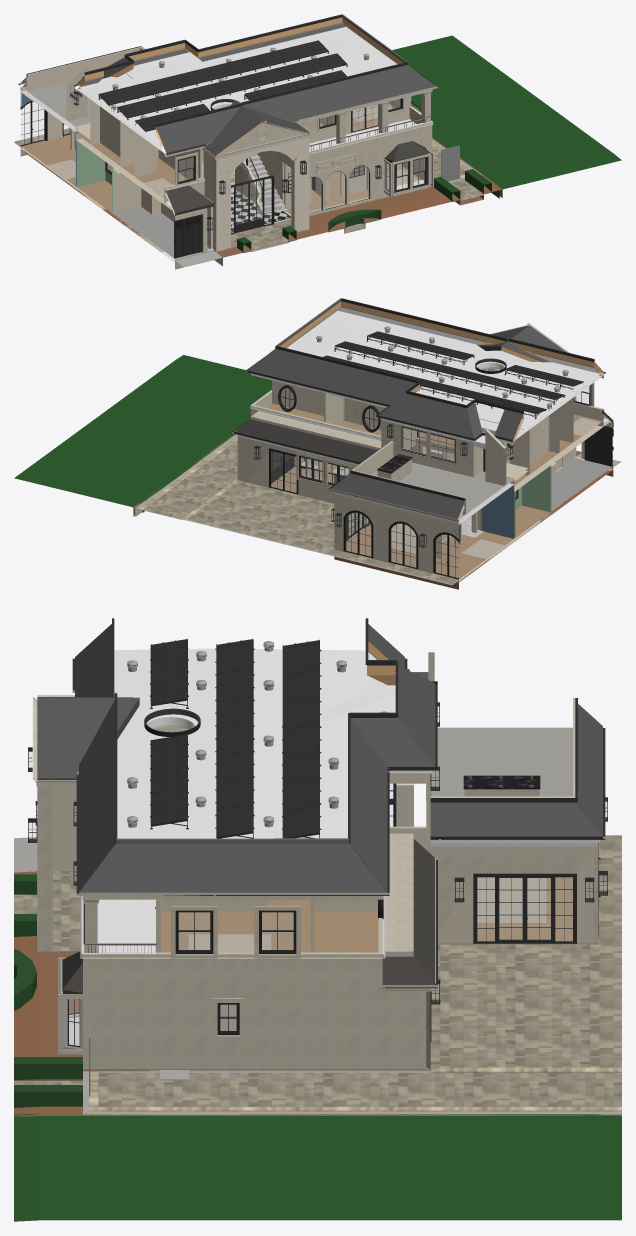
Rendered from elevation-east-7f1713720036.glb.
The picture shows the model from 3 angles, top to bottom: view 1: azimuth 30°, elevation 25°; view 2: azimuth 150°, elevation 25°; view 3: azimuth 270°, elevation 25°; orthographic projection. The views are drawn at different scales.
Visible parts, largest first — view 1: elevation-east-aee2d046b0172b1e, elevation-east-d56ee2a9d54b1fc2, elevation-east-e33d7b378dc851e2, elevation-east-0b9d5d1cd0b2c60f, elevation-east-7cf8e5cfa8b264af, elevation-east-f9d31319fa3bf46f, elevation-east-698abdfdc6fb970d, elevation-east-3b0077416469e01b, elevation-east-2575515a05775d9e, elevation-east-25c3ff3929e46046, elevation-east-b39baa29700ae605, elevation-east-e566fc302b71b574 (+55 smaller); view 2: elevation-east-aee2d046b0172b1e, elevation-east-d56ee2a9d54b1fc2, elevation-east-9a168d6ce9d31ade, elevation-east-c91f911e25c8cae7, elevation-east-3b0077416469e01b, elevation-east-969b861f9850351e, elevation-east-2c1fd33d433632d0, elevation-east-5febae1537653d02, elevation-east-0b9d5d1cd0b2c60f, elevation-east-4ce8397b8f5ef0f7, elevation-east-2575515a05775d9e, elevation-east-ded88bd99590d377 (+40 smaller); view 3: elevation-east-aee2d046b0172b1e, elevation-east-9a168d6ce9d31ade, elevation-east-d56ee2a9d54b1fc2, elevation-east-2c1fd33d433632d0, elevation-east-a75a0c9c223328ee, elevation-east-af97eba351c411ae, elevation-east-ded88bd99590d377, elevation-east-e706aa16b4547c37, elevation-east-0b9d5d1cd0b2c60f, elevation-east-7cf8e5cfa8b264af, elevation-east-3d5fbc3a2a5f9c05, elevation-east-319244b3406409d9 (+41 smaller).
Part boxes in pixels (box(x1,y1,x2,y2)): elevation-east-aee2d046b0172b1e: box(21, 35, 621, 257); elevation-east-d56ee2a9d54b1fc2: box(85, 30, 396, 146); elevation-east-e33d7b378dc851e2: box(242, 65, 435, 121); elevation-east-0b9d5d1cd0b2c60f: box(116, 53, 347, 119); elevation-east-7cf8e5cfa8b264af: box(98, 40, 329, 106); elevation-east-f9d31319fa3bf46f: box(224, 134, 301, 249); elevation-east-698abdfdc6fb970d: box(231, 175, 274, 234); elevation-east-3b0077416469e01b: box(21, 134, 407, 206); elevation-east-2575515a05775d9e: box(75, 103, 409, 204); elevation-east-25c3ff3929e46046: box(156, 106, 239, 153); elevation-east-b39baa29700ae605: box(309, 121, 432, 169); elevation-east-e566fc302b71b574: box(80, 27, 350, 145); elevation-east-aee2d046b0172b1e: box(14, 355, 613, 589); elevation-east-d56ee2a9d54b1fc2: box(286, 310, 599, 429); elevation-east-9a168d6ce9d31ade: box(182, 479, 458, 585); elevation-east-c91f911e25c8cae7: box(247, 348, 415, 405); elevation-east-3b0077416469e01b: box(239, 457, 541, 579); elevation-east-969b861f9850351e: box(334, 494, 460, 572); elevation-east-2c1fd33d433632d0: box(138, 436, 237, 519); elevation-east-5febae1537653d02: box(331, 473, 464, 519); elevation-east-0b9d5d1cd0b2c60f: box(334, 341, 565, 404); elevation-east-4ce8397b8f5ef0f7: box(378, 393, 474, 438); elevation-east-2575515a05775d9e: box(266, 403, 603, 491); elevation-east-ded88bd99590d377: box(371, 462, 513, 517); elevation-east-aee2d046b0172b1e: box(14, 871, 621, 1221); elevation-east-9a168d6ce9d31ade: box(430, 835, 621, 1072); elevation-east-d56ee2a9d54b1fc2: box(114, 648, 395, 838); elevation-east-2c1fd33d433632d0: box(89, 1072, 621, 1111); elevation-east-a75a0c9c223328ee: box(79, 843, 386, 892); elevation-east-af97eba351c411ae: box(285, 974, 426, 1069); elevation-east-ded88bd99590d377: box(431, 727, 572, 796); elevation-east-e706aa16b4547c37: box(430, 846, 593, 943); elevation-east-0b9d5d1cd0b2c60f: box(215, 639, 254, 838); elevation-east-7cf8e5cfa8b264af: box(282, 639, 321, 838); elevation-east-3d5fbc3a2a5f9c05: box(473, 873, 576, 943); elevation-east-319244b3406409d9: box(154, 974, 240, 1069).
Size of the model in its own units: 29.52 by 8.45 by 19.78.
Materials: 78 (17 with a texture image).
